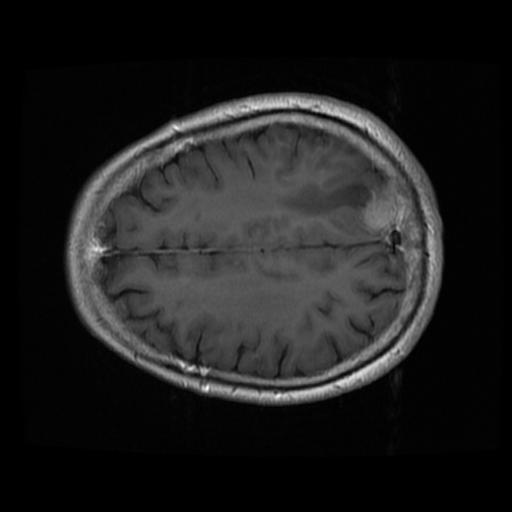meningioma: (360, 181, 398, 235)
